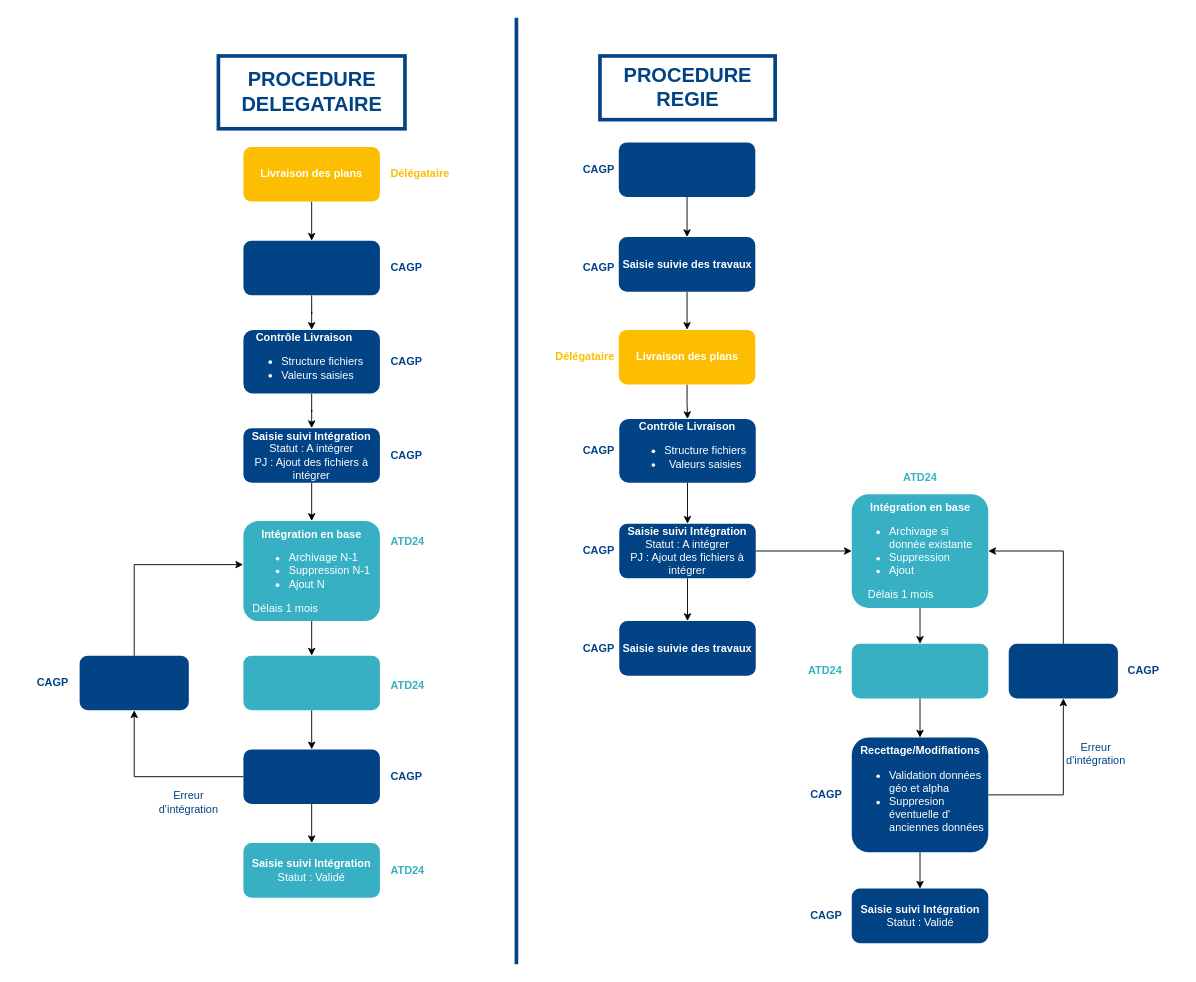
Image size: 1196x982. Some labels were removed from this diagram. The shapes that lost their labels are listed below. From the top down, each one's centre as x and y in pixels, then its label:
pixel 686 169: Saisie zone de travaux
pixel 311 267: Création des pochoirs des territoires délégataires
pixel 133 682: Saisie suivi Itnégration Statut : A intégrer
pixel 311 682: Saisie suivi Intégration Statut : Recettage
pixel 919 670: Saisie suivi Intégration Statut : Recettage/Modification
pixel 1062 670: Saisie suivi Intégration Statut : A intégrer
pixel 311 776: Recettage Validation données géo et alpha
